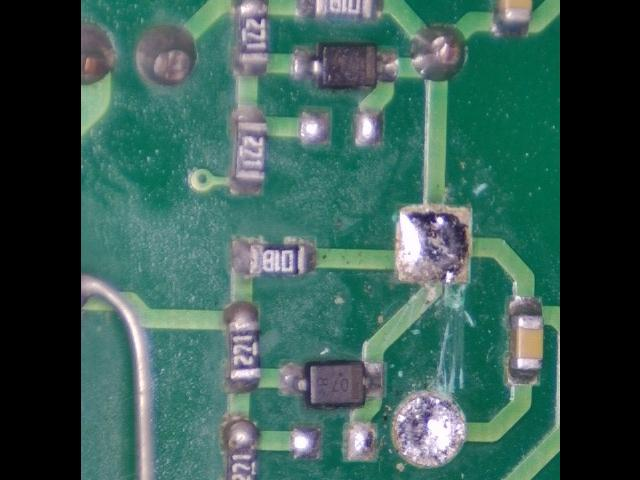Dry_joint: (397, 205, 471, 284), (397, 396, 464, 465)
